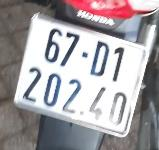0: (41, 70, 66, 109), (104, 91, 130, 128)
1: (106, 44, 130, 84)
2: (59, 76, 87, 117), (21, 64, 46, 105)
4: (86, 84, 112, 122)
6: (43, 26, 66, 65)
7: (57, 30, 83, 69)
D: (88, 38, 113, 78)
